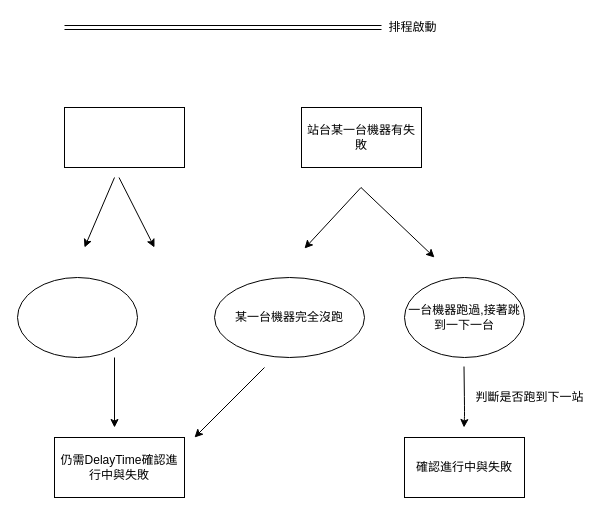
The diagram is 607 pixels wide and 515 high, and some of its shapes have lost their labels. The shapes that lost their labels are listed below. From the top down, each one's centre as x and y in pixels, then its label:
the point at 124,137: 此指標排程失敗
the point at 77,317: 沒有機器傳入可以讓我判斷下一台
